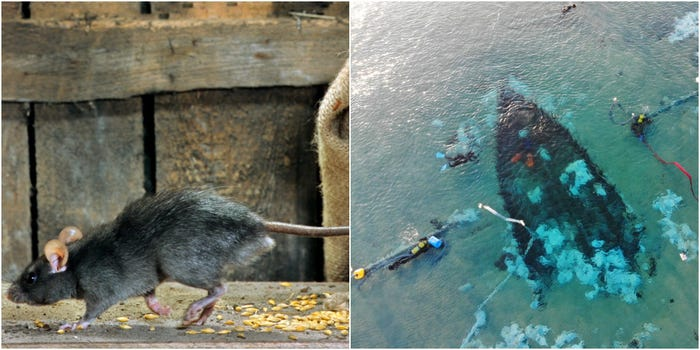Rat: (6, 176, 286, 335)
